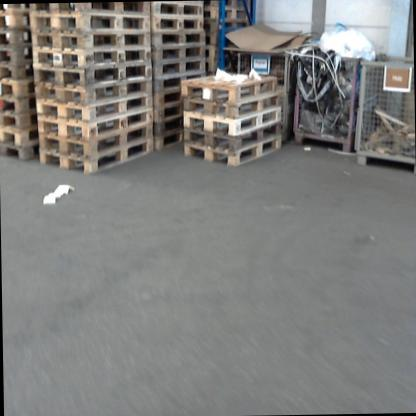pallet: (34, 137, 155, 177), (38, 118, 154, 155), (31, 75, 150, 108), (32, 56, 149, 88), (30, 24, 152, 54), (183, 131, 284, 166), (37, 93, 151, 124), (181, 65, 279, 101), (26, 9, 149, 37), (182, 102, 284, 135), (30, 40, 151, 67), (173, 92, 280, 118), (179, 121, 282, 147), (36, 114, 149, 136), (31, 1, 146, 17), (151, 58, 205, 77), (147, 13, 205, 30), (147, 1, 206, 17), (150, 43, 206, 59), (147, 29, 205, 44), (0, 20, 32, 47), (146, 74, 196, 90), (0, 113, 40, 132), (1, 126, 35, 148), (0, 146, 40, 164), (0, 79, 32, 101), (0, 7, 31, 29), (202, 7, 249, 21), (204, 20, 240, 37), (1, 100, 38, 116), (154, 131, 182, 152), (0, 63, 32, 81), (0, 45, 32, 63), (151, 103, 181, 122), (203, 60, 231, 79), (202, 0, 249, 11), (152, 119, 182, 131), (204, 44, 221, 62), (202, 34, 221, 48), (154, 93, 180, 103)
stillage: (232, 25, 310, 141), (303, 41, 371, 161), (354, 50, 414, 172)
